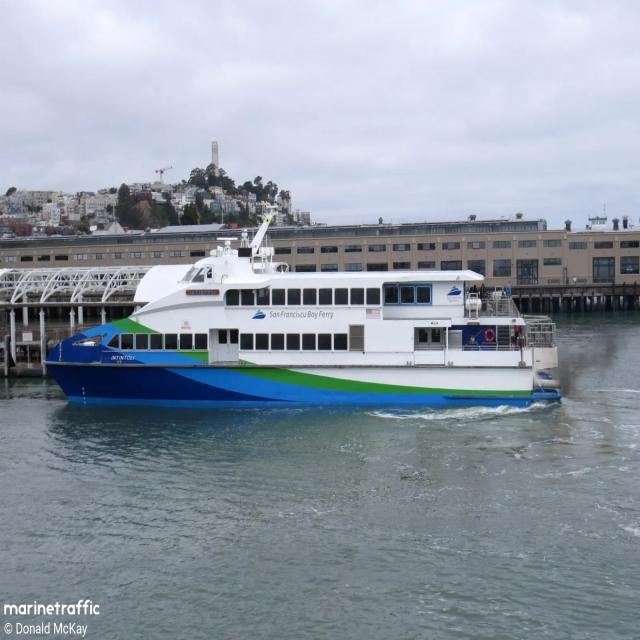Passenger: (46, 214, 560, 407)
